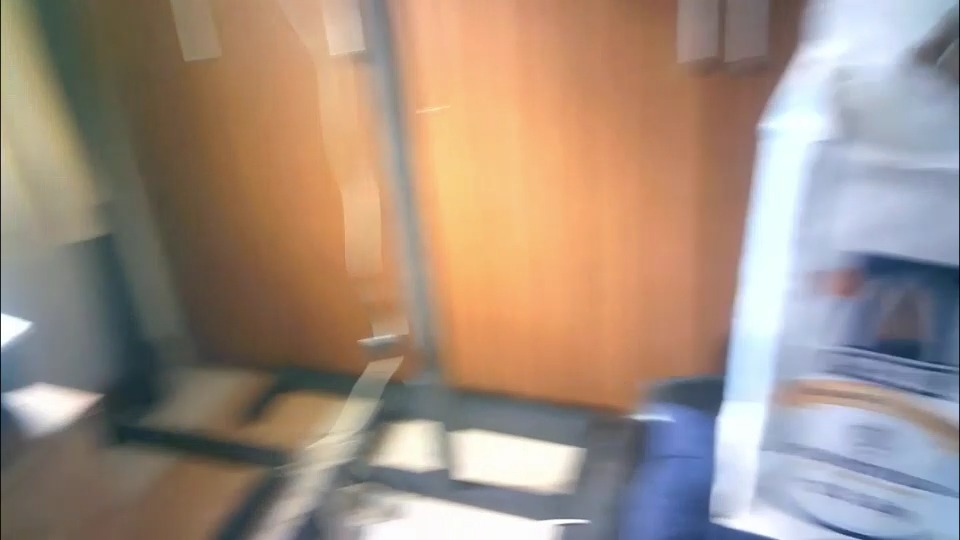wheat_flour_blue_label: (711, 10, 956, 539)
